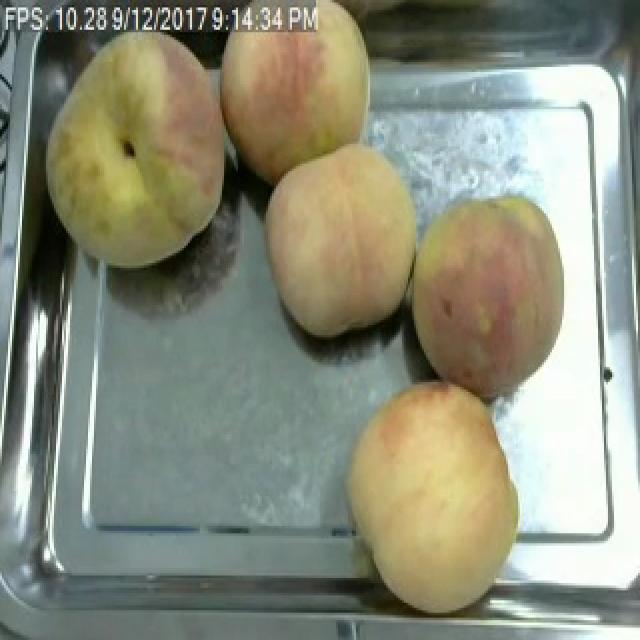Fruit: (28, 15, 234, 280), (334, 370, 532, 620), (398, 186, 576, 407), (250, 134, 424, 345), (220, 2, 384, 194)
